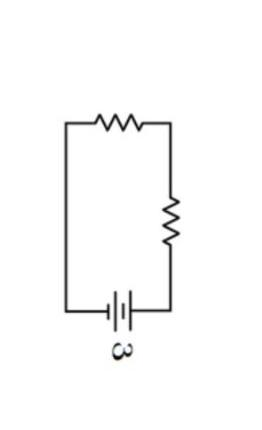resistor: (140, 168, 194, 250), (75, 100, 150, 141)
